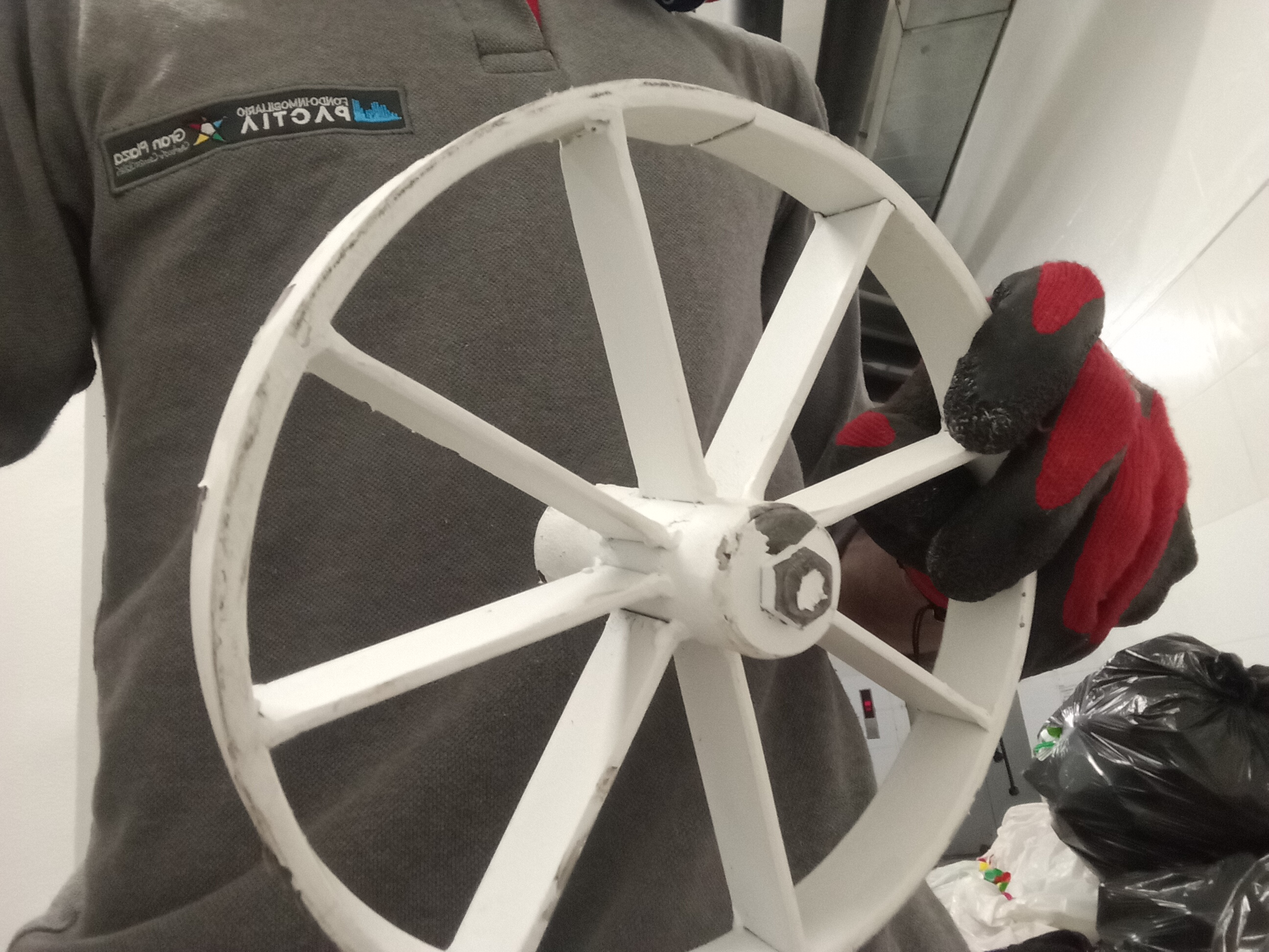Metal: (187, 74, 1043, 952)
